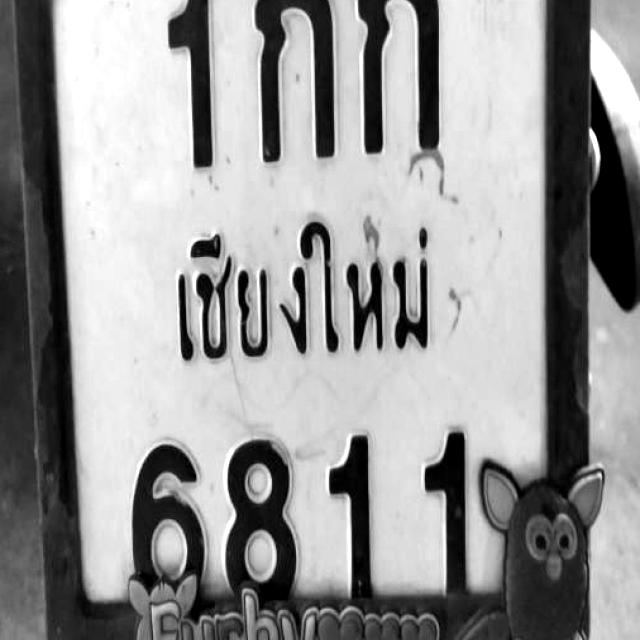letters: (350, 0, 453, 152), (252, 0, 342, 161), (114, 436, 200, 598), (140, 0, 219, 167), (221, 432, 291, 604), (329, 421, 380, 602), (416, 438, 473, 598)
license-plate: (36, 0, 573, 640)
province: (167, 193, 485, 382)
